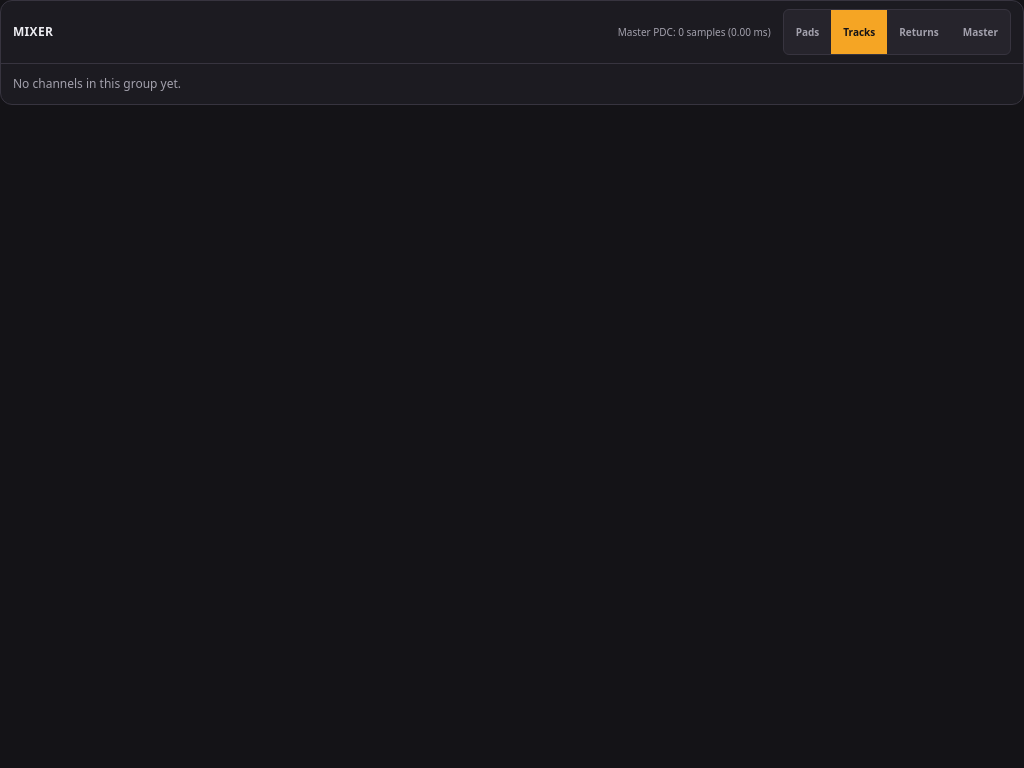
Test: the Pads tab with a keygroup program selected (issue #139) › renders ONE strip, named after the program
Click the radio button labelled "Pads" at (808, 32), box top-left (784, 10), bottom-right (831, 54)
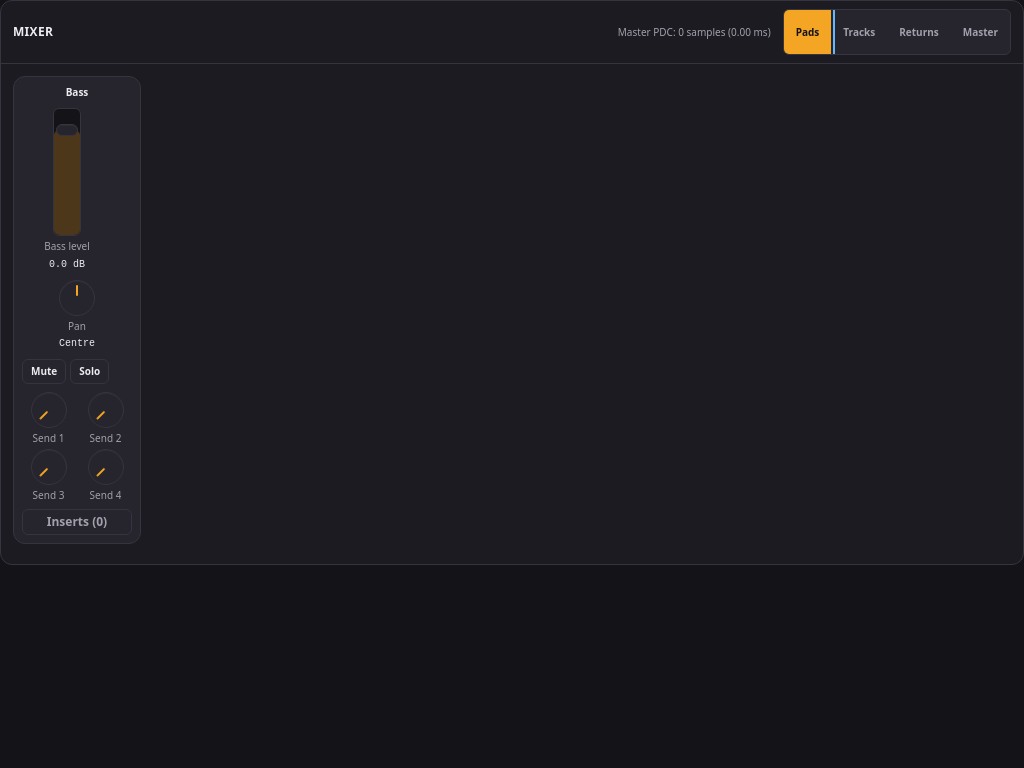
Now the element named "Bass channel strip" is shown, box top-left (13, 76), bottom-right (141, 544)
